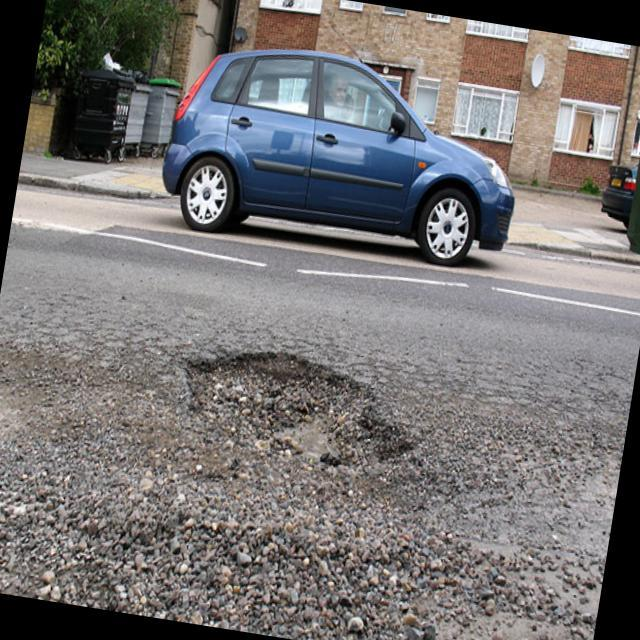Pothole: (163, 330, 428, 534)
